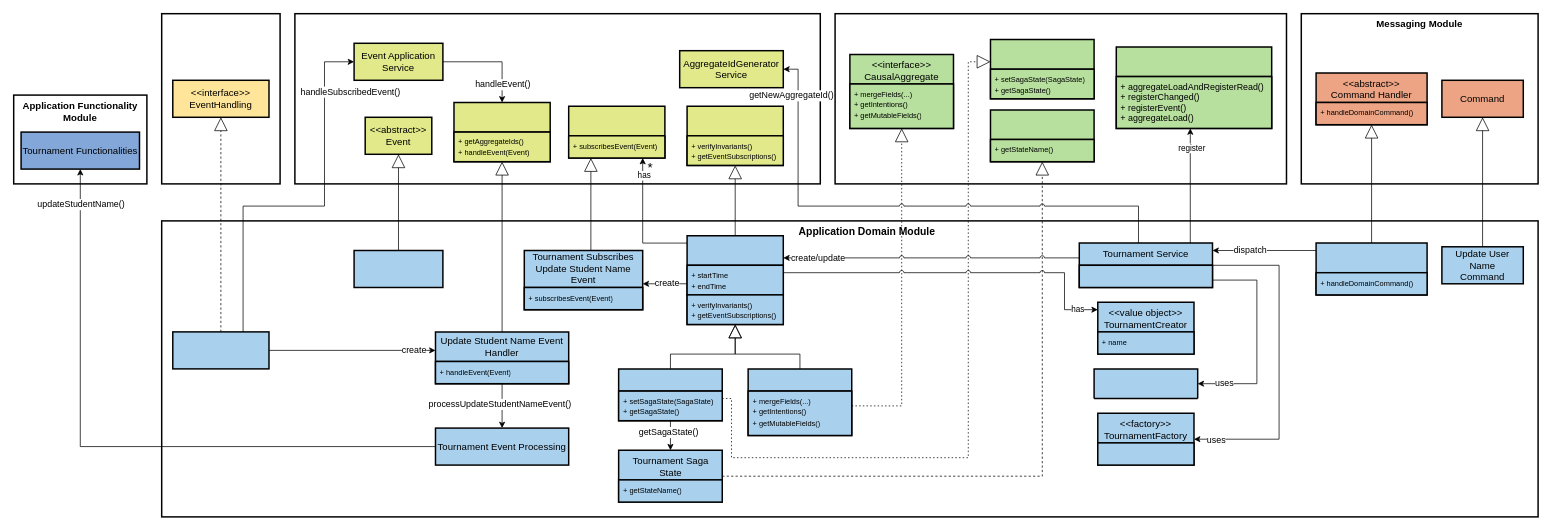
The diagram is 1551 pixels wide and 530 high, and some of its shapes have lost their labels. Here are the shapes that lost their labels. From the top down, the box of each, then its label:
(989, 38, 1094, 99): <<interface>> SagaAggregate
(1115, 46, 1272, 129): <<abstract>> UnitOfWorkService
(161, 13, 280, 184): Notification Module
(294, 13, 821, 184): Aggregate Module
(834, 13, 1287, 184): Transaction Module
(453, 101, 551, 162): <<abstract>> Event Handler
(568, 105, 665, 158): <<abstract>> Event Subscription
(686, 105, 784, 166): <<abstract>> Aggregate
(989, 109, 1094, 162): <<interface>> SagaState
(353, 249, 443, 288): UpdateStudent NameEvent
(686, 235, 784, 325): <<abstract>> Tournament
(1078, 264, 1213, 288): + updateUserName()
(1315, 242, 1427, 295): Tournament Command Handler
(172, 331, 269, 369): @Scheduled Tournament Event Handling
(618, 368, 723, 421): Saga Tournament
(747, 368, 852, 436): Causal Tournament
(1093, 368, 1198, 399): <<repository>> TournamentRepository
(1097, 442, 1194, 465): + createTournament()
